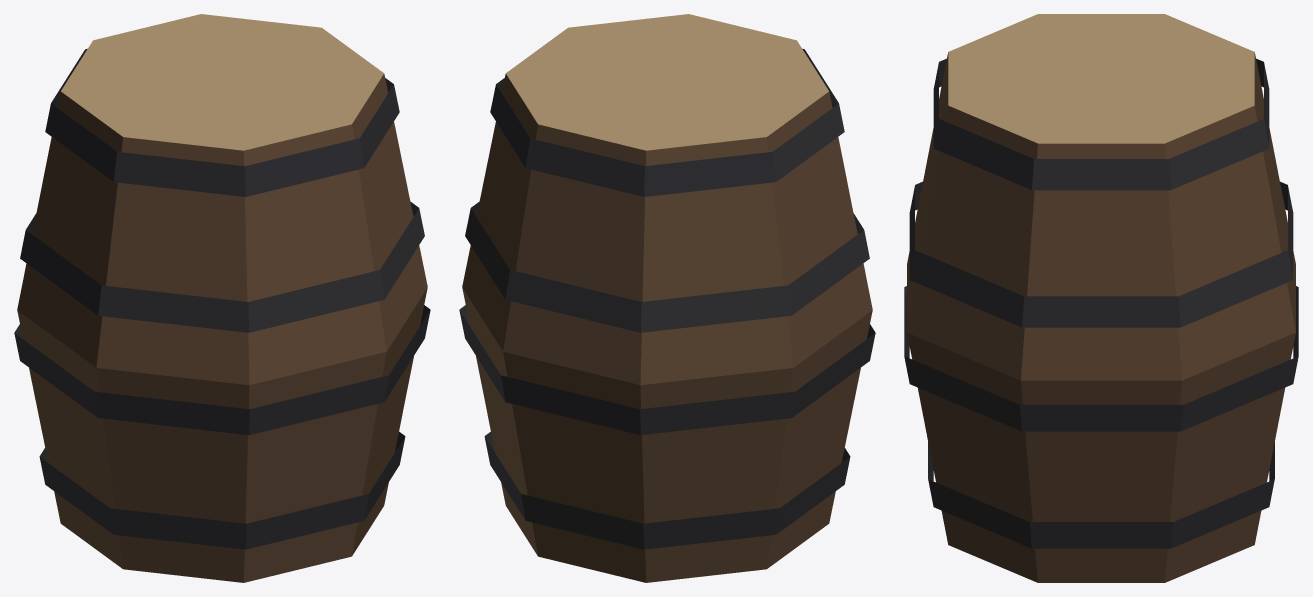
The model's file is barrel.glb.
3 renders of one model, left to right at view 1: azimuth 30°, elevation 25°; view 2: azimuth 150°, elevation 25°; view 3: azimuth 270°, elevation 25°, orthographic.
Visible parts, largest first — view 1: barrel; view 2: barrel; view 3: barrel.
Boxes of the visible parts, bbox=[...] form: barrel: bbox=[14, 14, 430, 582]; barrel: bbox=[459, 14, 875, 582]; barrel: bbox=[904, 14, 1298, 582].
Size of the model in its own units: 0.6183 by 0.76 by 0.6183.
